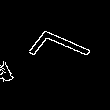L_SE: (16, 29, 94, 81)
